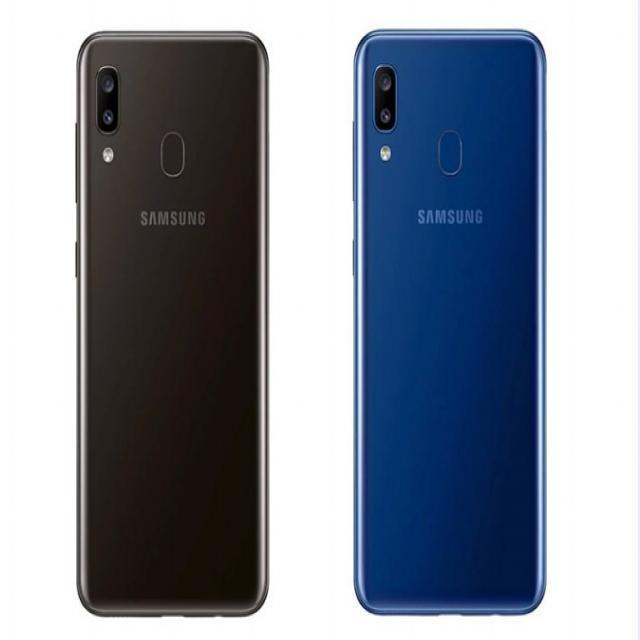phone: (349, 28, 548, 620), (74, 28, 271, 620)
